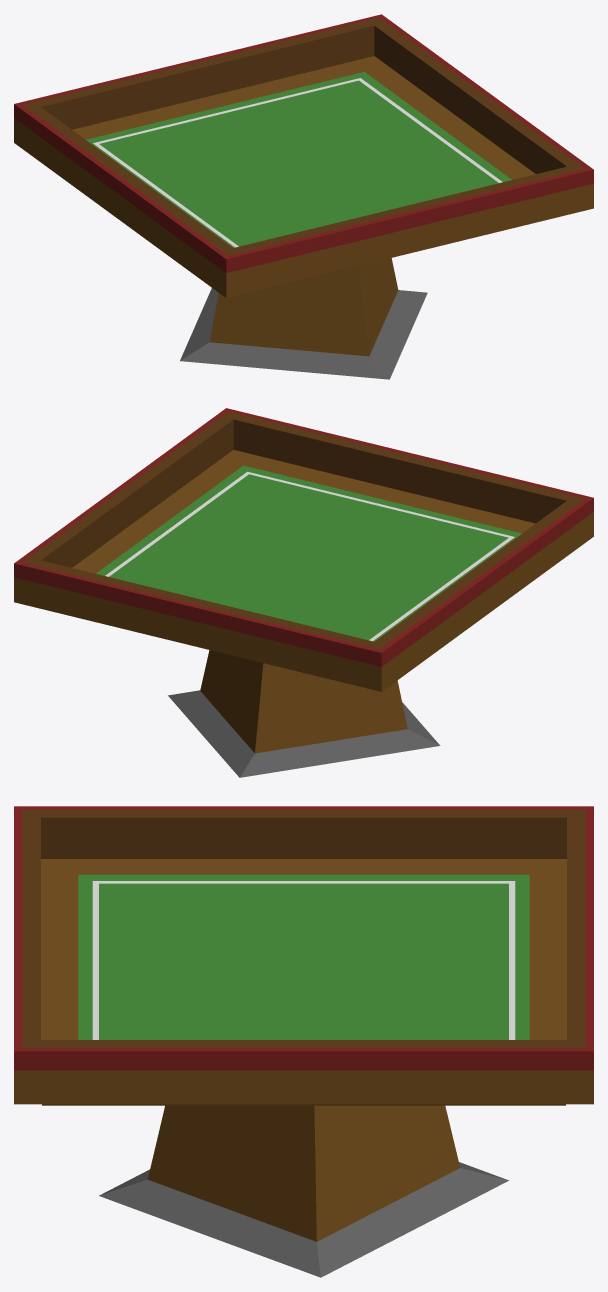
Rendered from table.fbx.
3 views of the same model, one above another, from view 1: azimuth 30°, elevation 25°; view 2: azimuth 150°, elevation 25°; view 3: azimuth 270°, elevation 25° (orthographic). The views are drawn at different scales.
Parts seen in each view (by area): view 1: Cube; view 2: Cube; view 3: Cube.
Boxes of the visible parts, x1=… form: Cube: x1=14, y1=14, x2=593, y2=379; Cube: x1=14, y1=408, x2=593, y2=777; Cube: x1=14, y1=806, x2=593, y2=1277.
Size of the model in its own units: 200 by 99.81 by 200.
